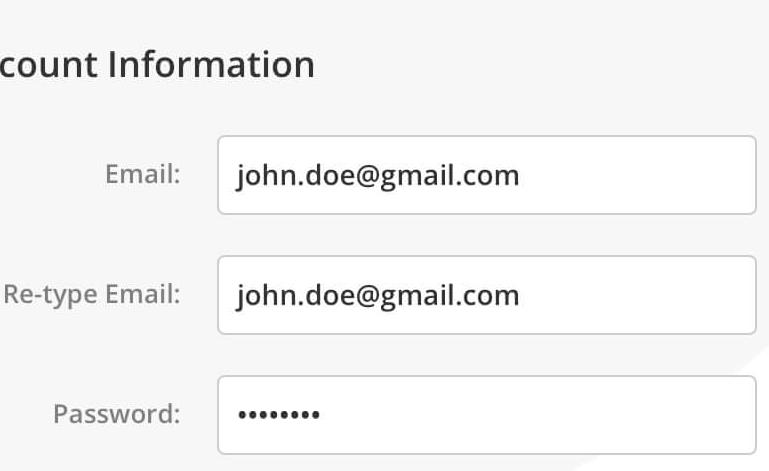field: (213, 132, 759, 217), (209, 253, 757, 336), (209, 373, 759, 455)
